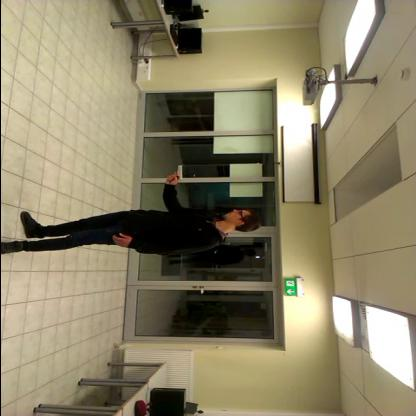Pistol: (156, 161, 192, 189)
